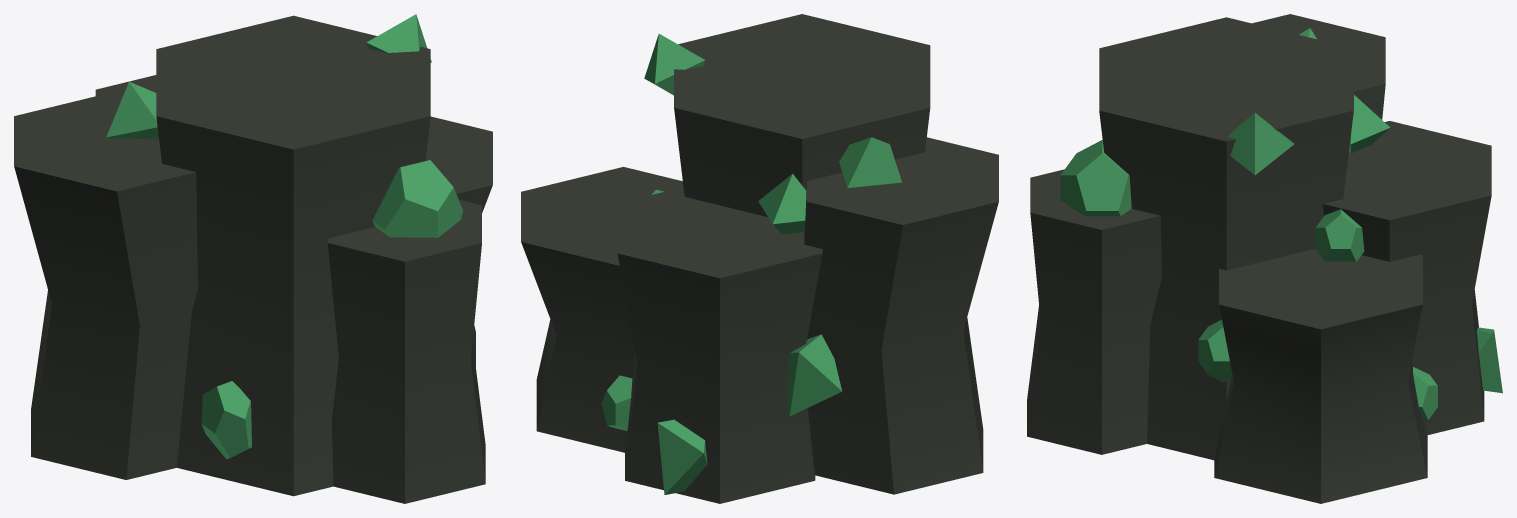
Rendered from Ore04.fbx.
The picture shows the model from 3 angles, left to right: view 1: azimuth 30°, elevation 25°; view 2: azimuth 150°, elevation 25°; view 3: azimuth 270°, elevation 25°; orthographic projection. The views are drawn at different scales.
Parts seen in each view (by area): view 1: pPlatonic3; view 2: pPlatonic3; view 3: pPlatonic3.
Part boxes in pixels (x1,y1,x2,y2): pPlatonic3: [14, 14, 492, 503]; pPlatonic3: [521, 14, 998, 503]; pPlatonic3: [1027, 14, 1502, 503].
Size of the model in its own units: 2.11 by 1.5 by 1.89.
